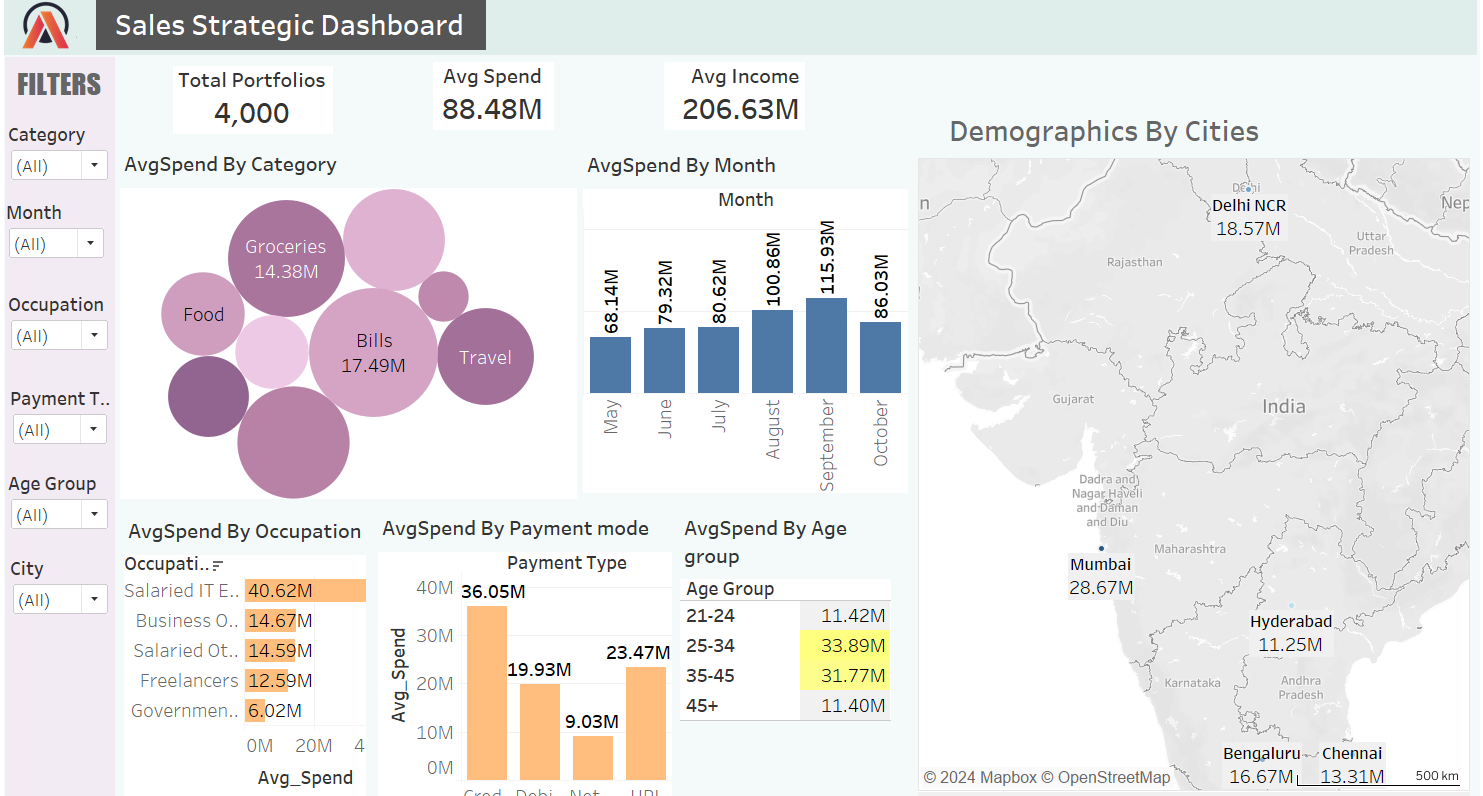

The dashboard page shown, as its layout file describes it:
{"tool":"tableau","page":{"name":"Spending Analysis 1","canvas":[1500,900],"ordinal":3},"visuals":[{"type":"blank","box":[8,8,1484,884]},{"type":"image","param":"C:/Users/Prashant Singh/Downloads/Atliq logo.png","box":[17,11,78,68]},{"type":"blank","box":[12,12,1473,63]},{"type":"blank","box":[104,17,390,53]},{"type":"text","box":[119,24,357,39]},{"type":"blank","box":[13,77,110,808]},{"type":"worksheet","title":"Avg Spend","mark":"Automatic","box":[441,82,154,82]},{"type":"worksheet","title":"Avg Income","mark":"Automatic","box":[672,82,158,79]},{"type":"text","box":[17,85,100,39]},{"type":"worksheet","title":"Portfolios","mark":"Automatic","box":[181,86,164,74]},{"type":"text","box":[953,130,407,39]},{"type":"filter","title":"AvgSpend By Category","param":"[federated.12fk7000fx6w68120v5100iaahm6].[none:category:nk]","box":[16,141,103,83]},{"type":"worksheet","title":"AvgSpend By Category","mark":"Circle","box":[128,165,464,354]},{"type":"worksheet","title":"AvgSpend By Month","mark":"Automatic","rows":["Calculation_1765692578749513728"],"cols":["month"],"box":[591,166,325,347]},{"type":"worksheet","title":"Avg spend Demographics By Cities (2)","mark":"Automatic","box":[926,178,552,696]},{"type":"filter","title":"AvgSpend By Month","param":"[federated.12fk7000fx6w68120v5100iaahm6].[none:month:nk]","box":[14,219,101,75]},{"type":"filter","title":"AvgSpend By Occupation","param":"[federated.12fk7000fx6w68120v5100iaahm6].[none:occupation:nk]","box":[16,311,103,85]},{"type":"filter","title":"AvgSpend By Payment mode","param":"[federated.12fk7000fx6w68120v5100iaahm6].[none:payment_type:nk]","box":[18,405,100,84]},{"type":"filter","title":"AvgSpend By Age group","param":"[federated.12fk7000fx6w68120v5100iaahm6].[none:age_group:nk]","box":[16,490,103,84]},{"type":"worksheet","title":"AvgSpend By Payment mode","mark":"Automatic","rows":["Calculation_1765692578749513728"],"cols":["payment_type"],"box":[386,529,294,315]},{"type":"worksheet","title":"AvgSpend By Age group","mark":"Square","rows":["age_group"],"box":[688,529,217,269]},{"type":"worksheet","title":"AvgSpend By Occupation","mark":"Automatic","rows":["occupation"],"cols":["Calculation_1765692578749513728"],"box":[132,532,242,311]},{"type":"filter","title":"Avg spend Demographics By Cities (2)","param":"[federated.12fk7000fx6w68120v5100iaahm6].[none:city:nk]","box":[18,575,101,94]}]}

Visuals, with their boxes on the page's 1500x900 design canvas (x1, y1, x2, y2). These are canvas units, not pixel positions in the 1483x796 screenshot, which may show the page scaled, cropped or inside an application window:
blank: <bbox>8, 8, 1492, 892</bbox>
image: <bbox>17, 11, 95, 79</bbox>
blank: <bbox>12, 12, 1485, 75</bbox>
blank: <bbox>104, 17, 494, 70</bbox>
text: <bbox>119, 24, 476, 63</bbox>
blank: <bbox>13, 77, 123, 885</bbox>
"Avg Spend" worksheet: <bbox>441, 82, 595, 164</bbox>
"Avg Income" worksheet: <bbox>672, 82, 830, 161</bbox>
text: <bbox>17, 85, 117, 124</bbox>
"Portfolios" worksheet: <bbox>181, 86, 345, 160</bbox>
text: <bbox>953, 130, 1360, 169</bbox>
"AvgSpend By Category" filter: <bbox>16, 141, 119, 224</bbox>
"AvgSpend By Category" worksheet (Circle marks): <bbox>128, 165, 592, 519</bbox>
"AvgSpend By Month" worksheet: <bbox>591, 166, 916, 513</bbox>
"Avg spend Demographics By Cities (2)" worksheet: <bbox>926, 178, 1478, 874</bbox>
"AvgSpend By Month" filter: <bbox>14, 219, 115, 294</bbox>
"AvgSpend By Occupation" filter: <bbox>16, 311, 119, 396</bbox>
"AvgSpend By Payment mode" filter: <bbox>18, 405, 118, 489</bbox>
"AvgSpend By Age group" filter: <bbox>16, 490, 119, 574</bbox>
"AvgSpend By Payment mode" worksheet: <bbox>386, 529, 680, 844</bbox>
"AvgSpend By Age group" worksheet (Square marks): <bbox>688, 529, 905, 798</bbox>
"AvgSpend By Occupation" worksheet: <bbox>132, 532, 374, 843</bbox>
"Avg spend Demographics By Cities (2)" filter: <bbox>18, 575, 119, 669</bbox>
